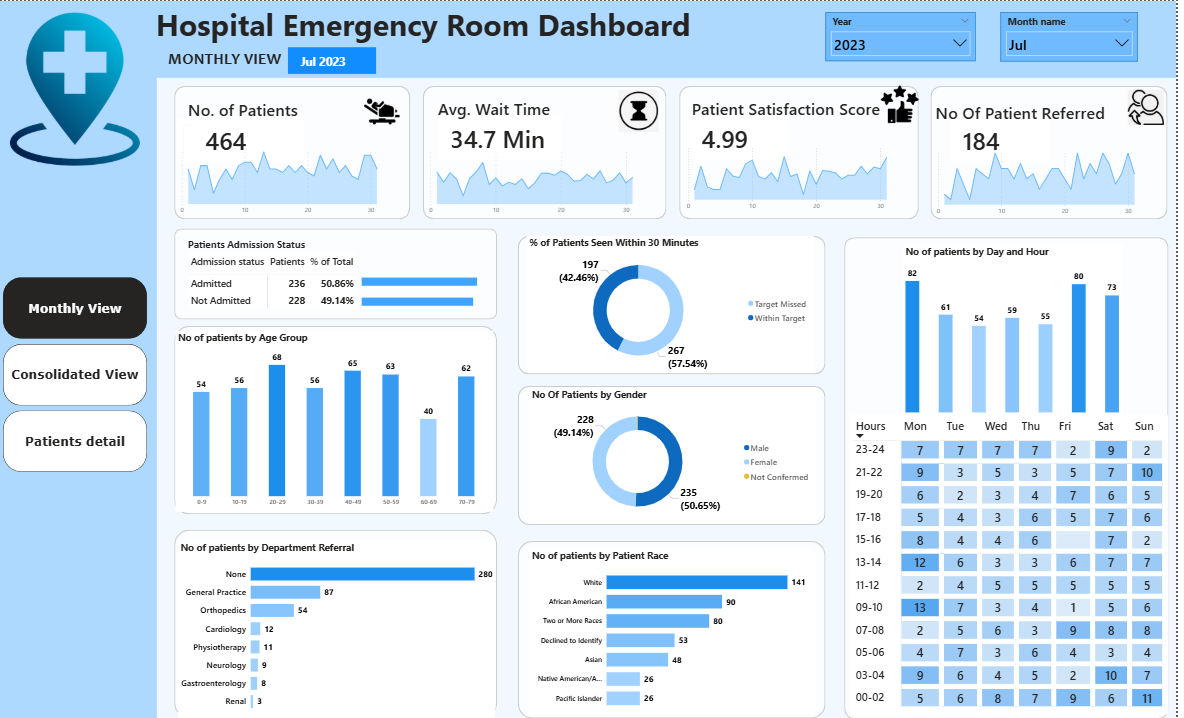

This screenshot's page, from the dashboard's own definition file:
{"tool":"powerbi","page":{"name":"Monthly View ","canvas":[2300,1400],"ordinal":0},"visuals":[{"type":"shape","box":[0,0,310,1400],"z":0},{"type":"shape","box":[310,0,1990,150],"z":1000},{"type":"shape","box":[345,165,460,260],"z":2000},{"type":"textbox","box":[292,0,1074,88],"z":3000},{"type":"textbox","box":[328,88,316,58],"z":4000},{"type":"cardVisual","fields":{"Data":["Hospital_data.No of patients"]},"box":[344,224,202,96],"z":5000},{"type":"slicer","fields":{"Values":["Date Table.Month name"]},"box":[1956,22,268,96],"z":6000},{"type":"slicer","title":"Year","fields":{"Values":["Date Table.Date.Variation.Date Hierarchy.Year"]},"box":[1615.6,22.2,293.3,95.6],"z":7000},{"type":"shape","box":[1820,165,462.5,260],"z":8000},{"type":"shape","box":[830,165,475,260],"z":9000},{"type":"shape","box":[1330,165,467.5,260],"z":10000},{"type":"textbox","box":[366,186,242,68],"z":11000},{"type":"cardVisual","fields":{"Data":["Min(Date Table.Month & Year)"]},"box":[562,86,182,62],"z":12000},{"type":"cardVisual","fields":{"Data":["Hospital_data.No of patients"]},"box":[375,222.5,225,97.5],"z":13000},{"type":"cardVisual","fields":{"Data":["Hospital_data.No of patients referral"]},"box":[1852.5,222.5,202.5,95],"z":14000},{"type":"cardVisual","fields":{"Data":["Avg(Hospital_data.Patient Satisfaction Score)"]},"box":[1345,217.5,202.5,97.5],"z":15000},{"type":"cardVisual","fields":{"Data":["Hospital_data.Average Wait Time"]},"box":[854,220,252,96],"z":16000},{"type":"areaChart","fields":{"Category":["Date Table.Date.Variation.Date Hierarchy.Day"],"Y":["Hospital_data.Patient satisfctionscore"]},"box":[1332.5,272.5,467.5,145],"z":17000},{"type":"areaChart","fields":{"Category":["Date Table.Date.Variation.Date Hierarchy.Day"],"Y":["Hospital_data.No of patients referral"]},"box":[1820,282.5,462.5,145],"z":18000},{"type":"textbox","box":[1348,184,398,60],"z":19000},{"type":"areaChart","fields":{"Category":["Date Table.Date.Variation.Date Hierarchy.Day"],"Y":["Avg(Hospital_data.Patient Waittime)"]},"box":[830,280,475,145],"z":20000},{"type":"textbox","box":[854,184,268,88],"z":21000},{"type":"textbox","box":[1825,190,372.5,60],"z":22000},{"type":"shape","box":[345,445,630,177.5],"z":23000},{"type":"areaChart","fields":{"Category":["Date Table.Date.Variation.Date Hierarchy.Day"],"Y":["Hospital_data.No of patients"]},"box":[345,280,460,145],"z":24000},{"type":"pivotTable","title":"Patients Admission Status ","fields":{"Rows":["Hospital_data.Admission status"],"Values":["Hospital_data.No of patients1","Hospital_data.No of patients"]},"box":[365,460,440,150],"z":25000},{"type":"barChart","fields":{"Category":["Hospital_data.Admission status"],"Y":["Hospital_data.No of patients"]},"box":[705.8,507.7,296.2,115.4],"z":26000},{"type":"shape","box":[345,635,630,367.5],"z":27000},{"type":"clusteredColumnChart","fields":{"Category":["Hospital_data.Age Group"],"Y":["Hospital_data.No of patients"]},"box":[347.5,645,620,352.5],"z":28000},{"type":"shape","box":[345,1032.5,630,367.5],"z":29000},{"type":"clusteredBarChart","fields":{"Category":["Hospital_data.Department Referral"],"Y":["Hospital_data.No of patients"]},"box":[350,1053.8,619.2,346.2],"z":30000},{"type":"shape","box":[1015,457.5,600,270],"z":31000},{"type":"donutChart","title":"% of Patients Seen Within 30 Minutes ","fields":{"Category":["Hospital_data.Wait time status"],"Y":["Hospital_data.No of patients"]},"box":[1030.8,459.6,559.6,265.4],"z":32000},{"type":"shape","box":[1015.4,750,600,271.2],"z":33000},{"type":"donutChart","title":"No Of Patients by Gender","fields":{"Y":["Hospital_data.No of patients"],"Category":["Hospital_data.Patient Gender"]},"box":[1036.5,753.8,559.6,265.4],"z":34000},{"type":"shape","box":[1015.4,1053.8,600,346.2],"z":35000},{"type":"clusteredBarChart","box":[1046.2,1080.8,550,303.8],"z":36000},{"type":"clusteredBarChart","title":"No of patients by Patient Race","fields":{"Y":["Hospital_data.No of patients"],"Category":["Hospital_data.Patient Race"]},"box":[1036.5,1067.3,553.8,326.9],"z":37000},{"type":"shape","box":[1650,460,632.5,940],"z":38000},{"type":"pivotTable","fields":{"Rows":["Hospital_data.Waittime Intervals"],"Columns":["Date Table.Day Name"],"Values":["Hospital_data.No of patients"]},"box":[1662.5,807.5,620,585],"z":39000},{"type":"columnChart","title":"No of patients by Day and Hour","fields":{"Category":["Date Table.Day Name"],"Y":["Hospital_data.No of patients"]},"box":[1766.7,475.6,428.9,333.3],"z":40000},{"type":"image","box":[0,22.9,300,300],"z":41000},{"type":"image","box":[692.5,180,112.5,70],"z":42000},{"type":"image","box":[1190,172.5,120,82.5],"z":43000},{"type":"image","box":[1720.8,164.6,75,77.1],"z":44000},{"type":"image","box":[2177.1,172.9,122.9,68.8],"z":45000},{"type":"pageNavigator","box":[10.4,539.6,281.2,381.2],"z":46000}]}

Visuals, with their boxes in screenshot pixels (x1, y1, x2, y2), scaled from the page's 2300x1400 canvas onto the 1184x718 screenshot:
shape: (x1=0, y1=0, x2=160, y2=717)
shape: (x1=160, y1=0, x2=1183, y2=77)
shape: (x1=178, y1=85, x2=414, y2=218)
textbox: (x1=150, y1=0, x2=703, y2=45)
textbox: (x1=169, y1=45, x2=332, y2=75)
cardVisual - Hospital_data.No of patients: (x1=177, y1=115, x2=281, y2=164)
slicer - Date Table.Month name: (x1=1007, y1=11, x2=1145, y2=61)
"Year" slicer: (x1=832, y1=11, x2=983, y2=60)
shape: (x1=937, y1=85, x2=1175, y2=218)
shape: (x1=427, y1=85, x2=672, y2=218)
shape: (x1=685, y1=85, x2=925, y2=218)
textbox: (x1=188, y1=95, x2=313, y2=130)
cardVisual - Min(Date Table.Month & Year): (x1=289, y1=44, x2=383, y2=76)
cardVisual - Hospital_data.No of patients: (x1=193, y1=114, x2=309, y2=164)
cardVisual - Hospital_data.No of patients referral: (x1=954, y1=114, x2=1058, y2=163)
cardVisual - Avg(Hospital_data.Patient Satisfaction Score): (x1=692, y1=112, x2=797, y2=162)
cardVisual - Hospital_data.Average Wait Time: (x1=440, y1=113, x2=569, y2=162)
areaChart - Date Table.Date.Variation.Date Hierarchy.Day x Hospital_data.Patient satisfctionscore: (x1=686, y1=140, x2=927, y2=214)
areaChart - Date Table.Date.Variation.Date Hierarchy.Day x Hospital_data.No of patients referral: (x1=937, y1=145, x2=1175, y2=219)
textbox: (x1=694, y1=94, x2=899, y2=125)
areaChart - Date Table.Date.Variation.Date Hierarchy.Day x Avg(Hospital_data.Patient Waittime): (x1=427, y1=144, x2=672, y2=218)
textbox: (x1=440, y1=94, x2=578, y2=139)
textbox: (x1=939, y1=97, x2=1131, y2=128)
shape: (x1=178, y1=228, x2=502, y2=319)
areaChart - Date Table.Date.Variation.Date Hierarchy.Day x Hospital_data.No of patients: (x1=178, y1=144, x2=414, y2=218)
"Patients Admission Status " pivotTable: (x1=188, y1=236, x2=414, y2=313)
barChart - Hospital_data.Admission status x Hospital_data.No of patients: (x1=363, y1=260, x2=516, y2=320)
shape: (x1=178, y1=326, x2=502, y2=514)
clusteredColumnChart - Hospital_data.Age Group x Hospital_data.No of patients: (x1=179, y1=331, x2=498, y2=512)
shape: (x1=178, y1=530, x2=502, y2=717)
clusteredBarChart - Hospital_data.Department Referral x Hospital_data.No of patients: (x1=180, y1=540, x2=499, y2=717)
shape: (x1=523, y1=235, x2=831, y2=373)
"% of Patients Seen Within 30 Minutes " donutChart: (x1=531, y1=236, x2=819, y2=372)
shape: (x1=523, y1=385, x2=832, y2=524)
"No Of Patients by Gender" donutChart: (x1=534, y1=387, x2=822, y2=523)
shape: (x1=523, y1=540, x2=832, y2=717)
clusteredBarChart: (x1=539, y1=554, x2=822, y2=710)
"No of patients by Patient Race" clusteredBarChart: (x1=534, y1=547, x2=819, y2=715)
shape: (x1=849, y1=236, x2=1175, y2=717)
pivotTable - Hospital_data.Waittime Intervals x Date Table.Day Name: (x1=856, y1=414, x2=1175, y2=714)
"No of patients by Day and Hour" columnChart: (x1=909, y1=244, x2=1130, y2=415)
image: (x1=0, y1=12, x2=154, y2=166)
image: (x1=356, y1=92, x2=414, y2=128)
image: (x1=613, y1=88, x2=674, y2=131)
image: (x1=886, y1=84, x2=924, y2=124)
image: (x1=1121, y1=89, x2=1183, y2=124)
pageNavigator: (x1=5, y1=277, x2=150, y2=472)
